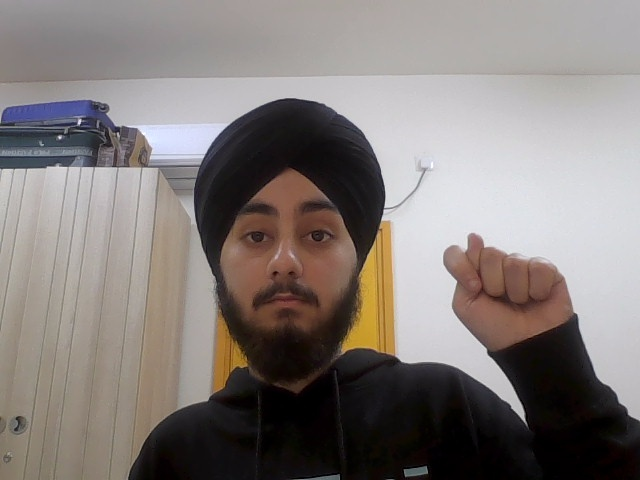Bathroom: (441, 229, 582, 349)
